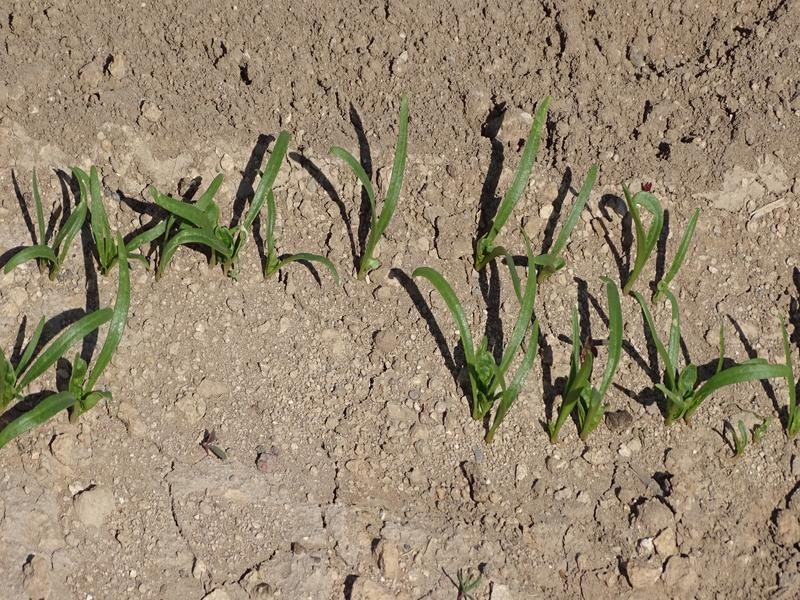Espinaca: (421, 271, 800, 438), (2, 134, 320, 278), (470, 102, 700, 270), (4, 289, 129, 433), (334, 104, 415, 268)
